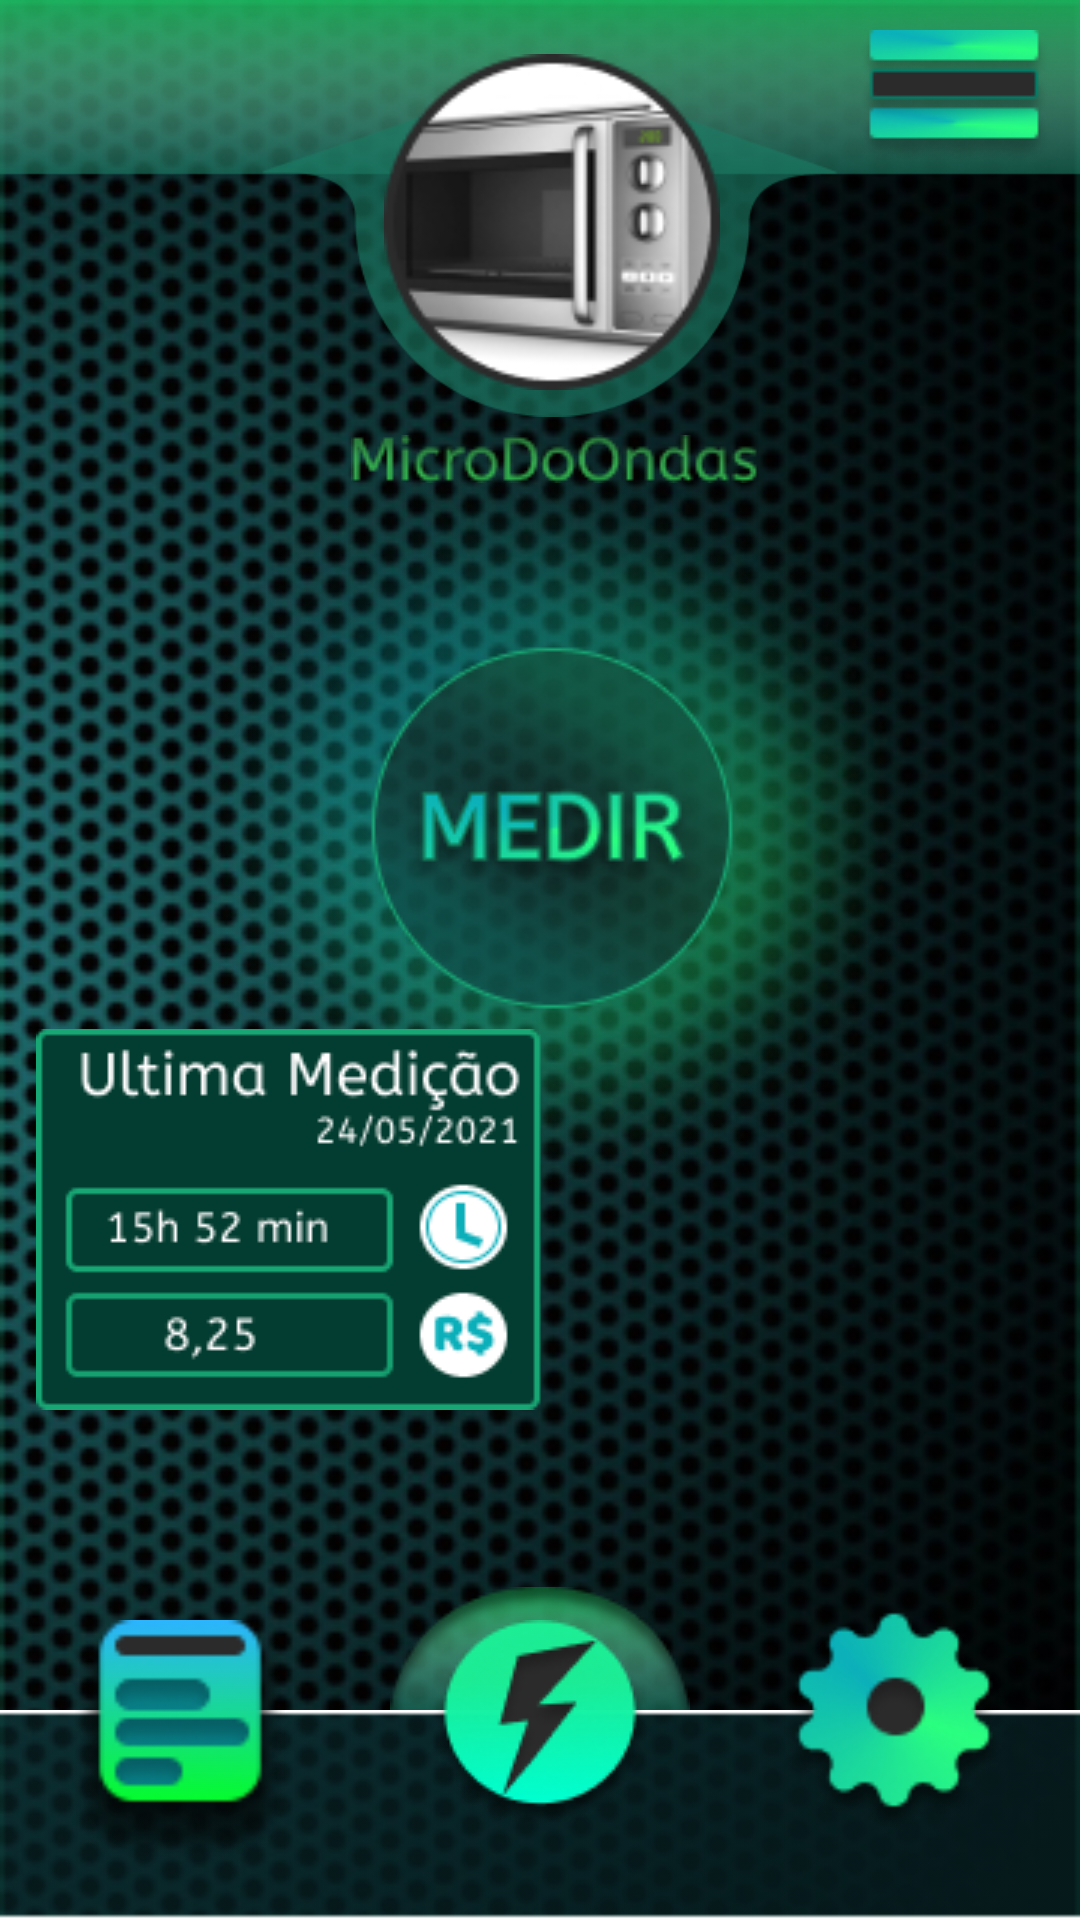

Point at icon controls on the screen. Image size 1080 x 1920, points as [x,y].
configicon: [894,1688]
histicon: [180,1731]
menuicon: [954,96]
